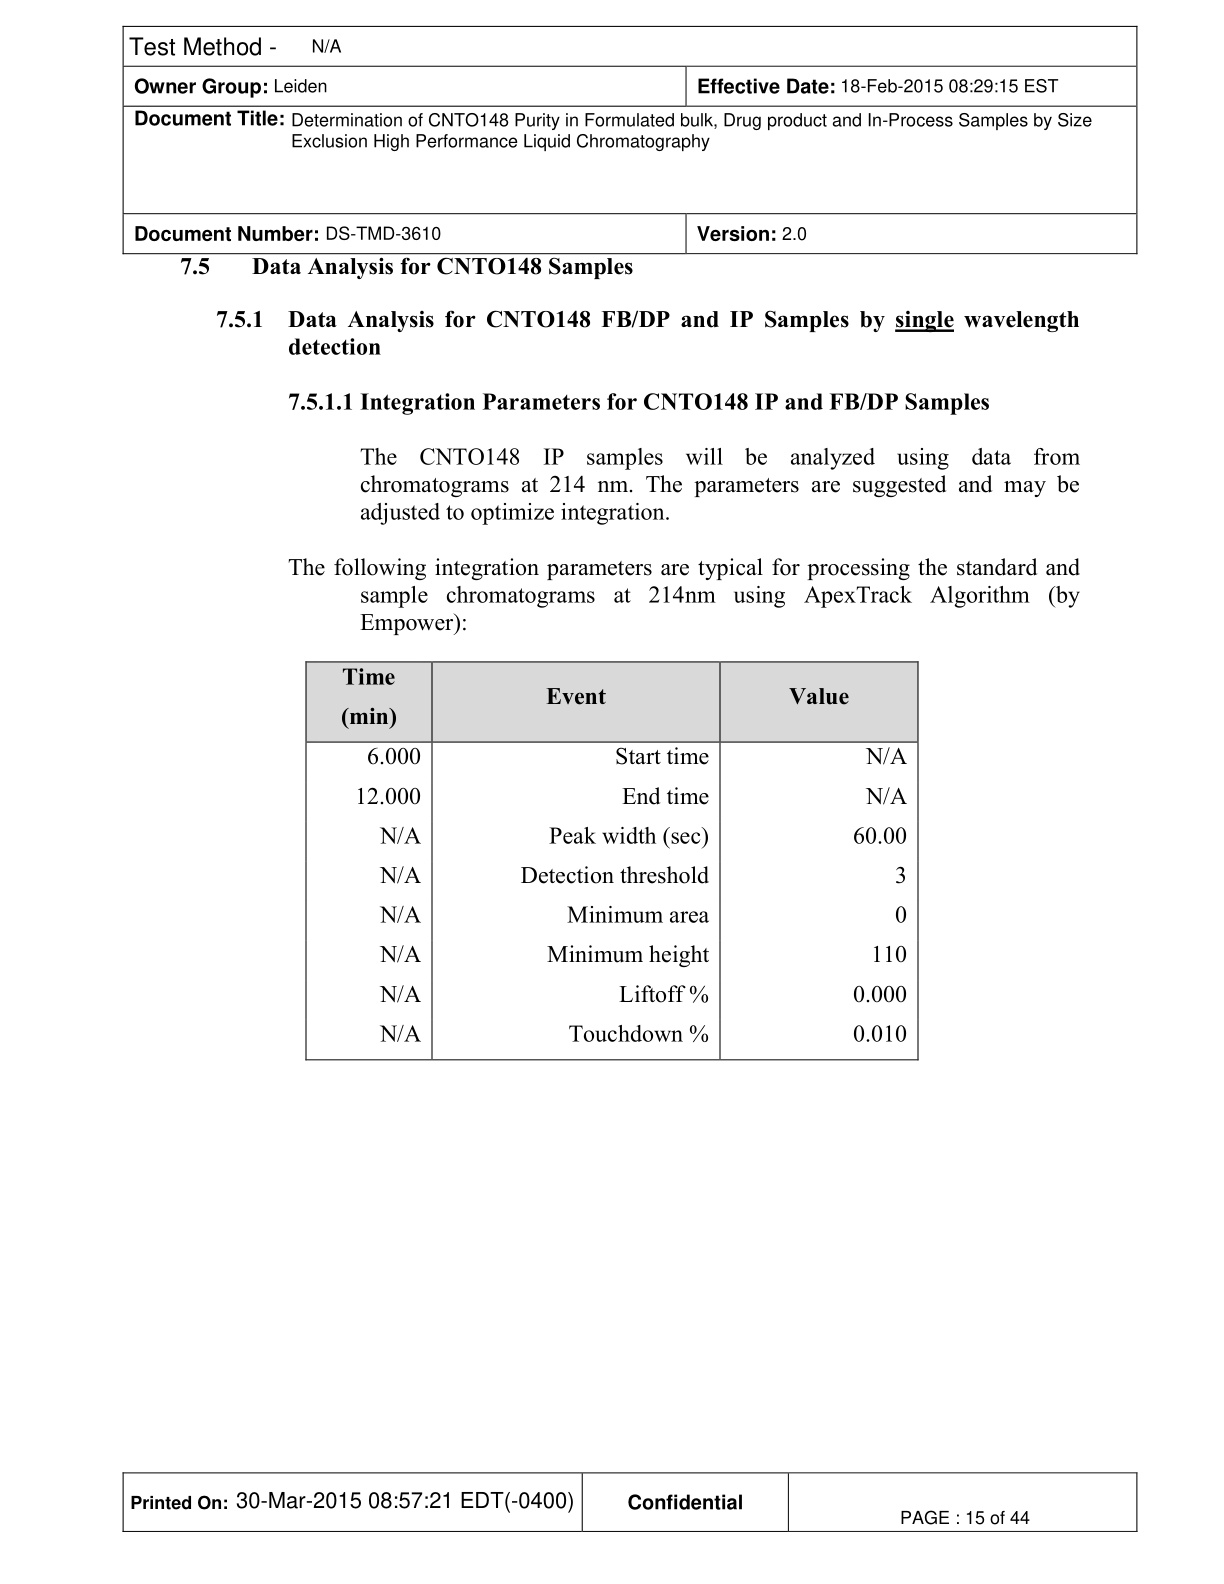full_lined: (121, 1471, 1138, 1533)
merged_cells: (122, 24, 1138, 255)
partial_lined: (303, 660, 919, 1061)
